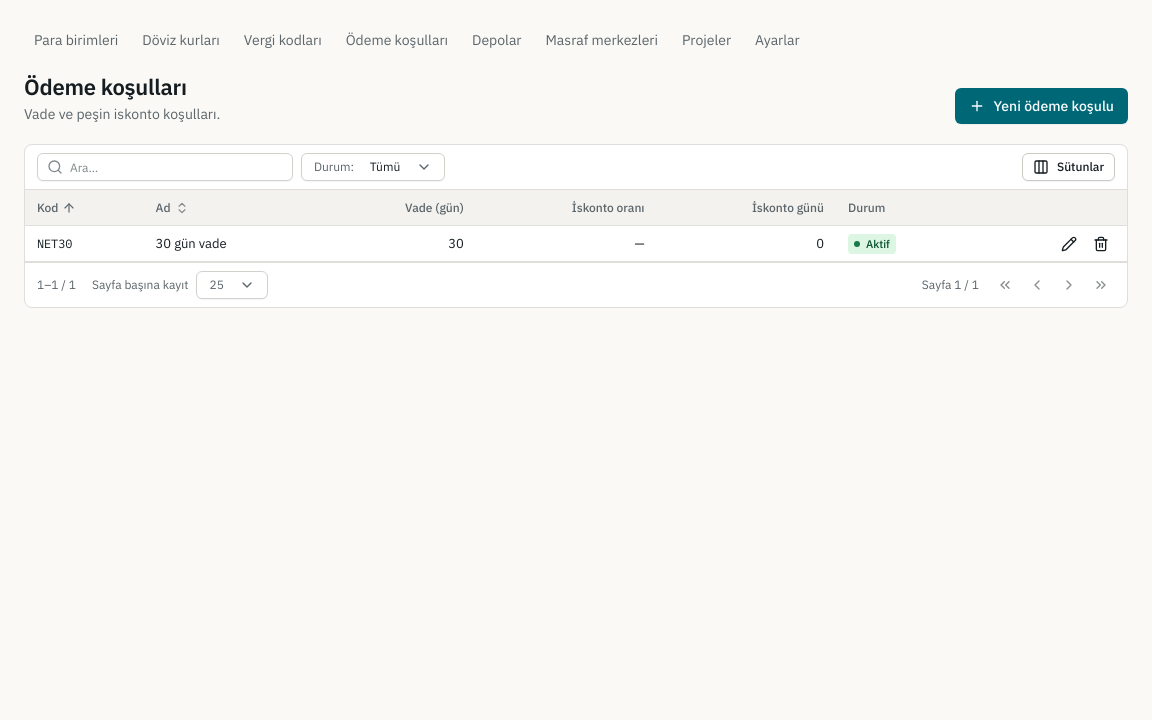
PaymentTermsPage › deletes after confirmation
The width and height of the screenshot is (1152, 720).
Click the button named "NET30 kaydını sil": (1101, 244) [1087,230,1115,258]
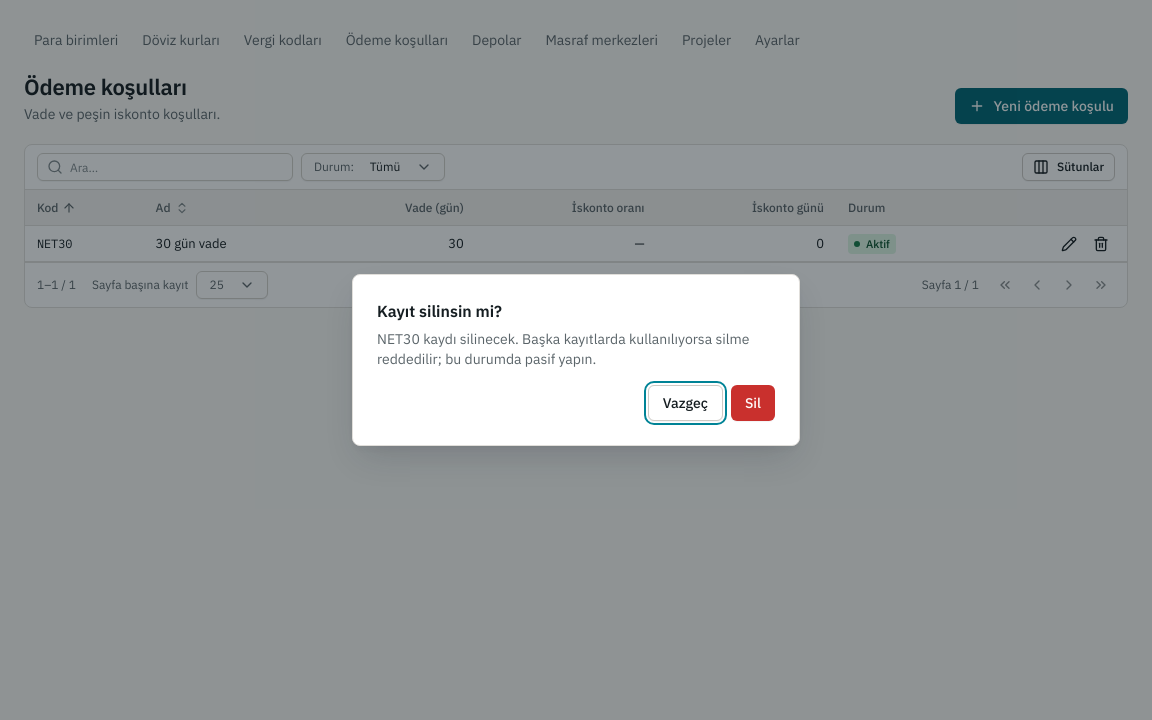
Click the button "Sil": (753, 403) [731,385,775,421]
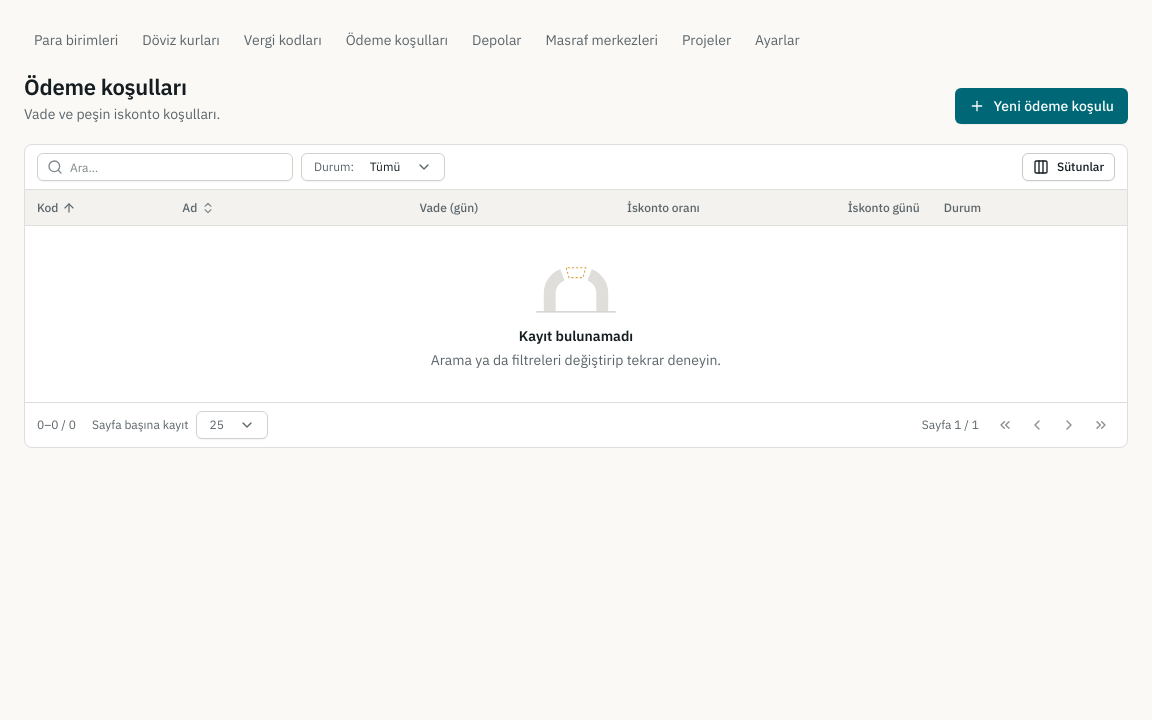
Expected: the text "NET30" is gone
